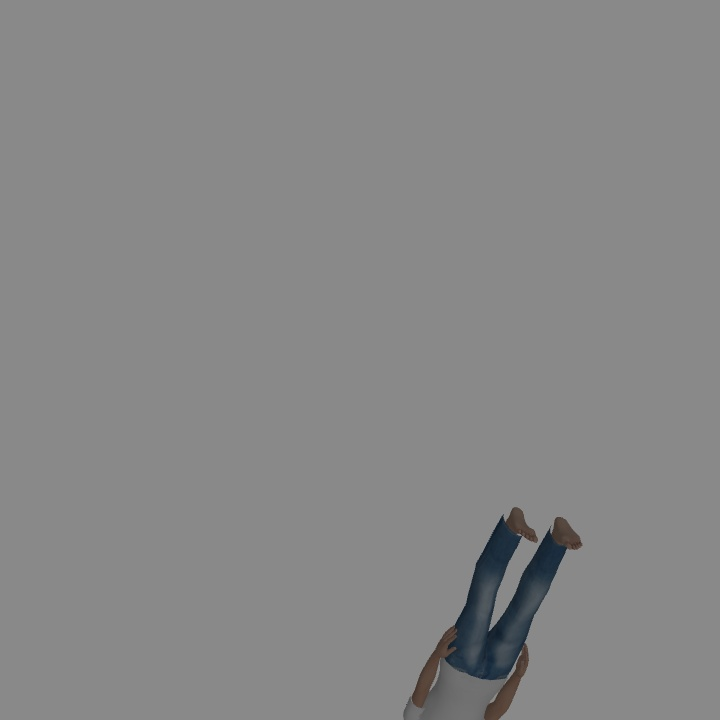victim: (406, 513, 576, 717)
